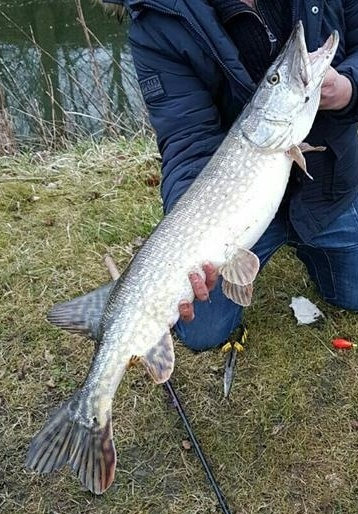Esox lucius: (20, 20, 338, 494)
